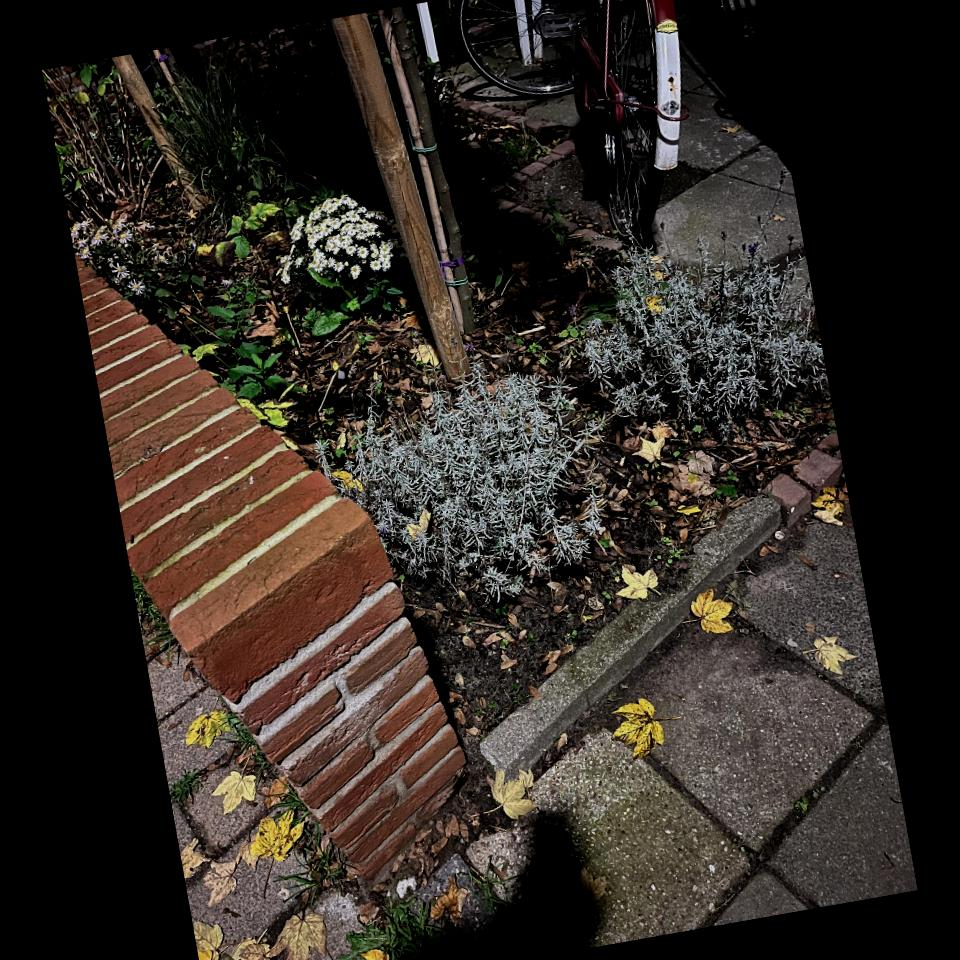weed: (222, 712, 348, 901), (341, 899, 444, 960), (131, 569, 173, 646), (470, 857, 507, 912)
